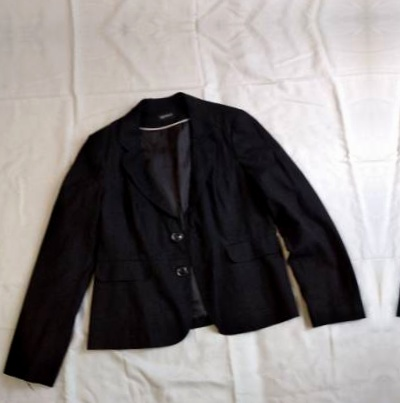Blazer: (0, 71, 363, 402), (391, 51, 400, 382)
